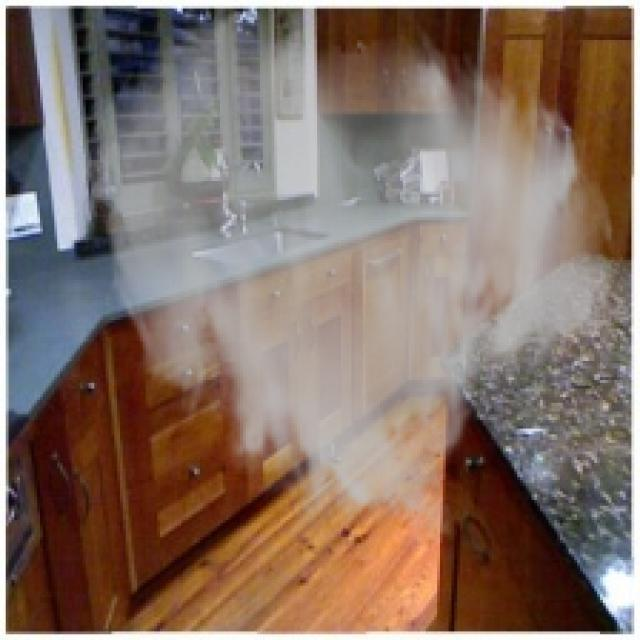Smoke: (83, 6, 620, 546)
